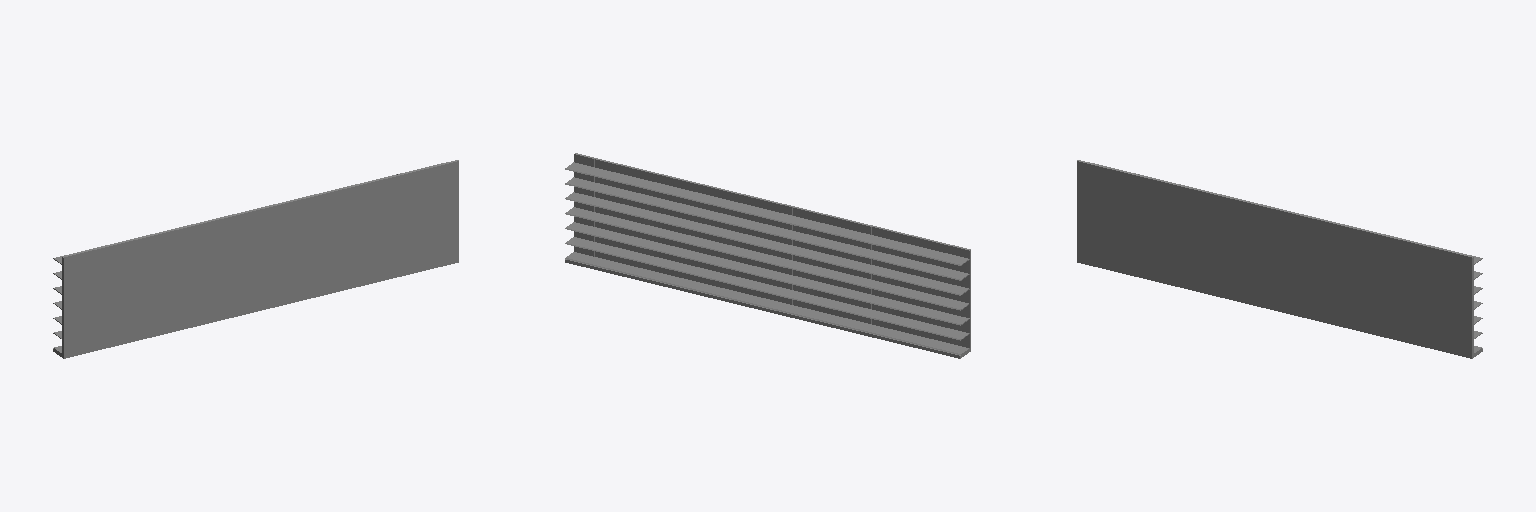
The model's file is BackShelf.obj.
The picture shows the model from 3 angles: view 1: azimuth 30°, elevation 25°; view 2: azimuth 150°, elevation 25°; view 3: azimuth 330°, elevation 25°; orthographic projection.
Visible parts, largest first — view 1: Shelves002; view 2: Shelves002; view 3: Shelves002.
Boxes of the visible parts, <box> form: Shelves002: <box>53,160,458,358</box>; Shelves002: <box>565,153,970,358</box>; Shelves002: <box>1077,160,1482,358</box>.
Size of the model in its own units: 877 by 215 by 41.73.